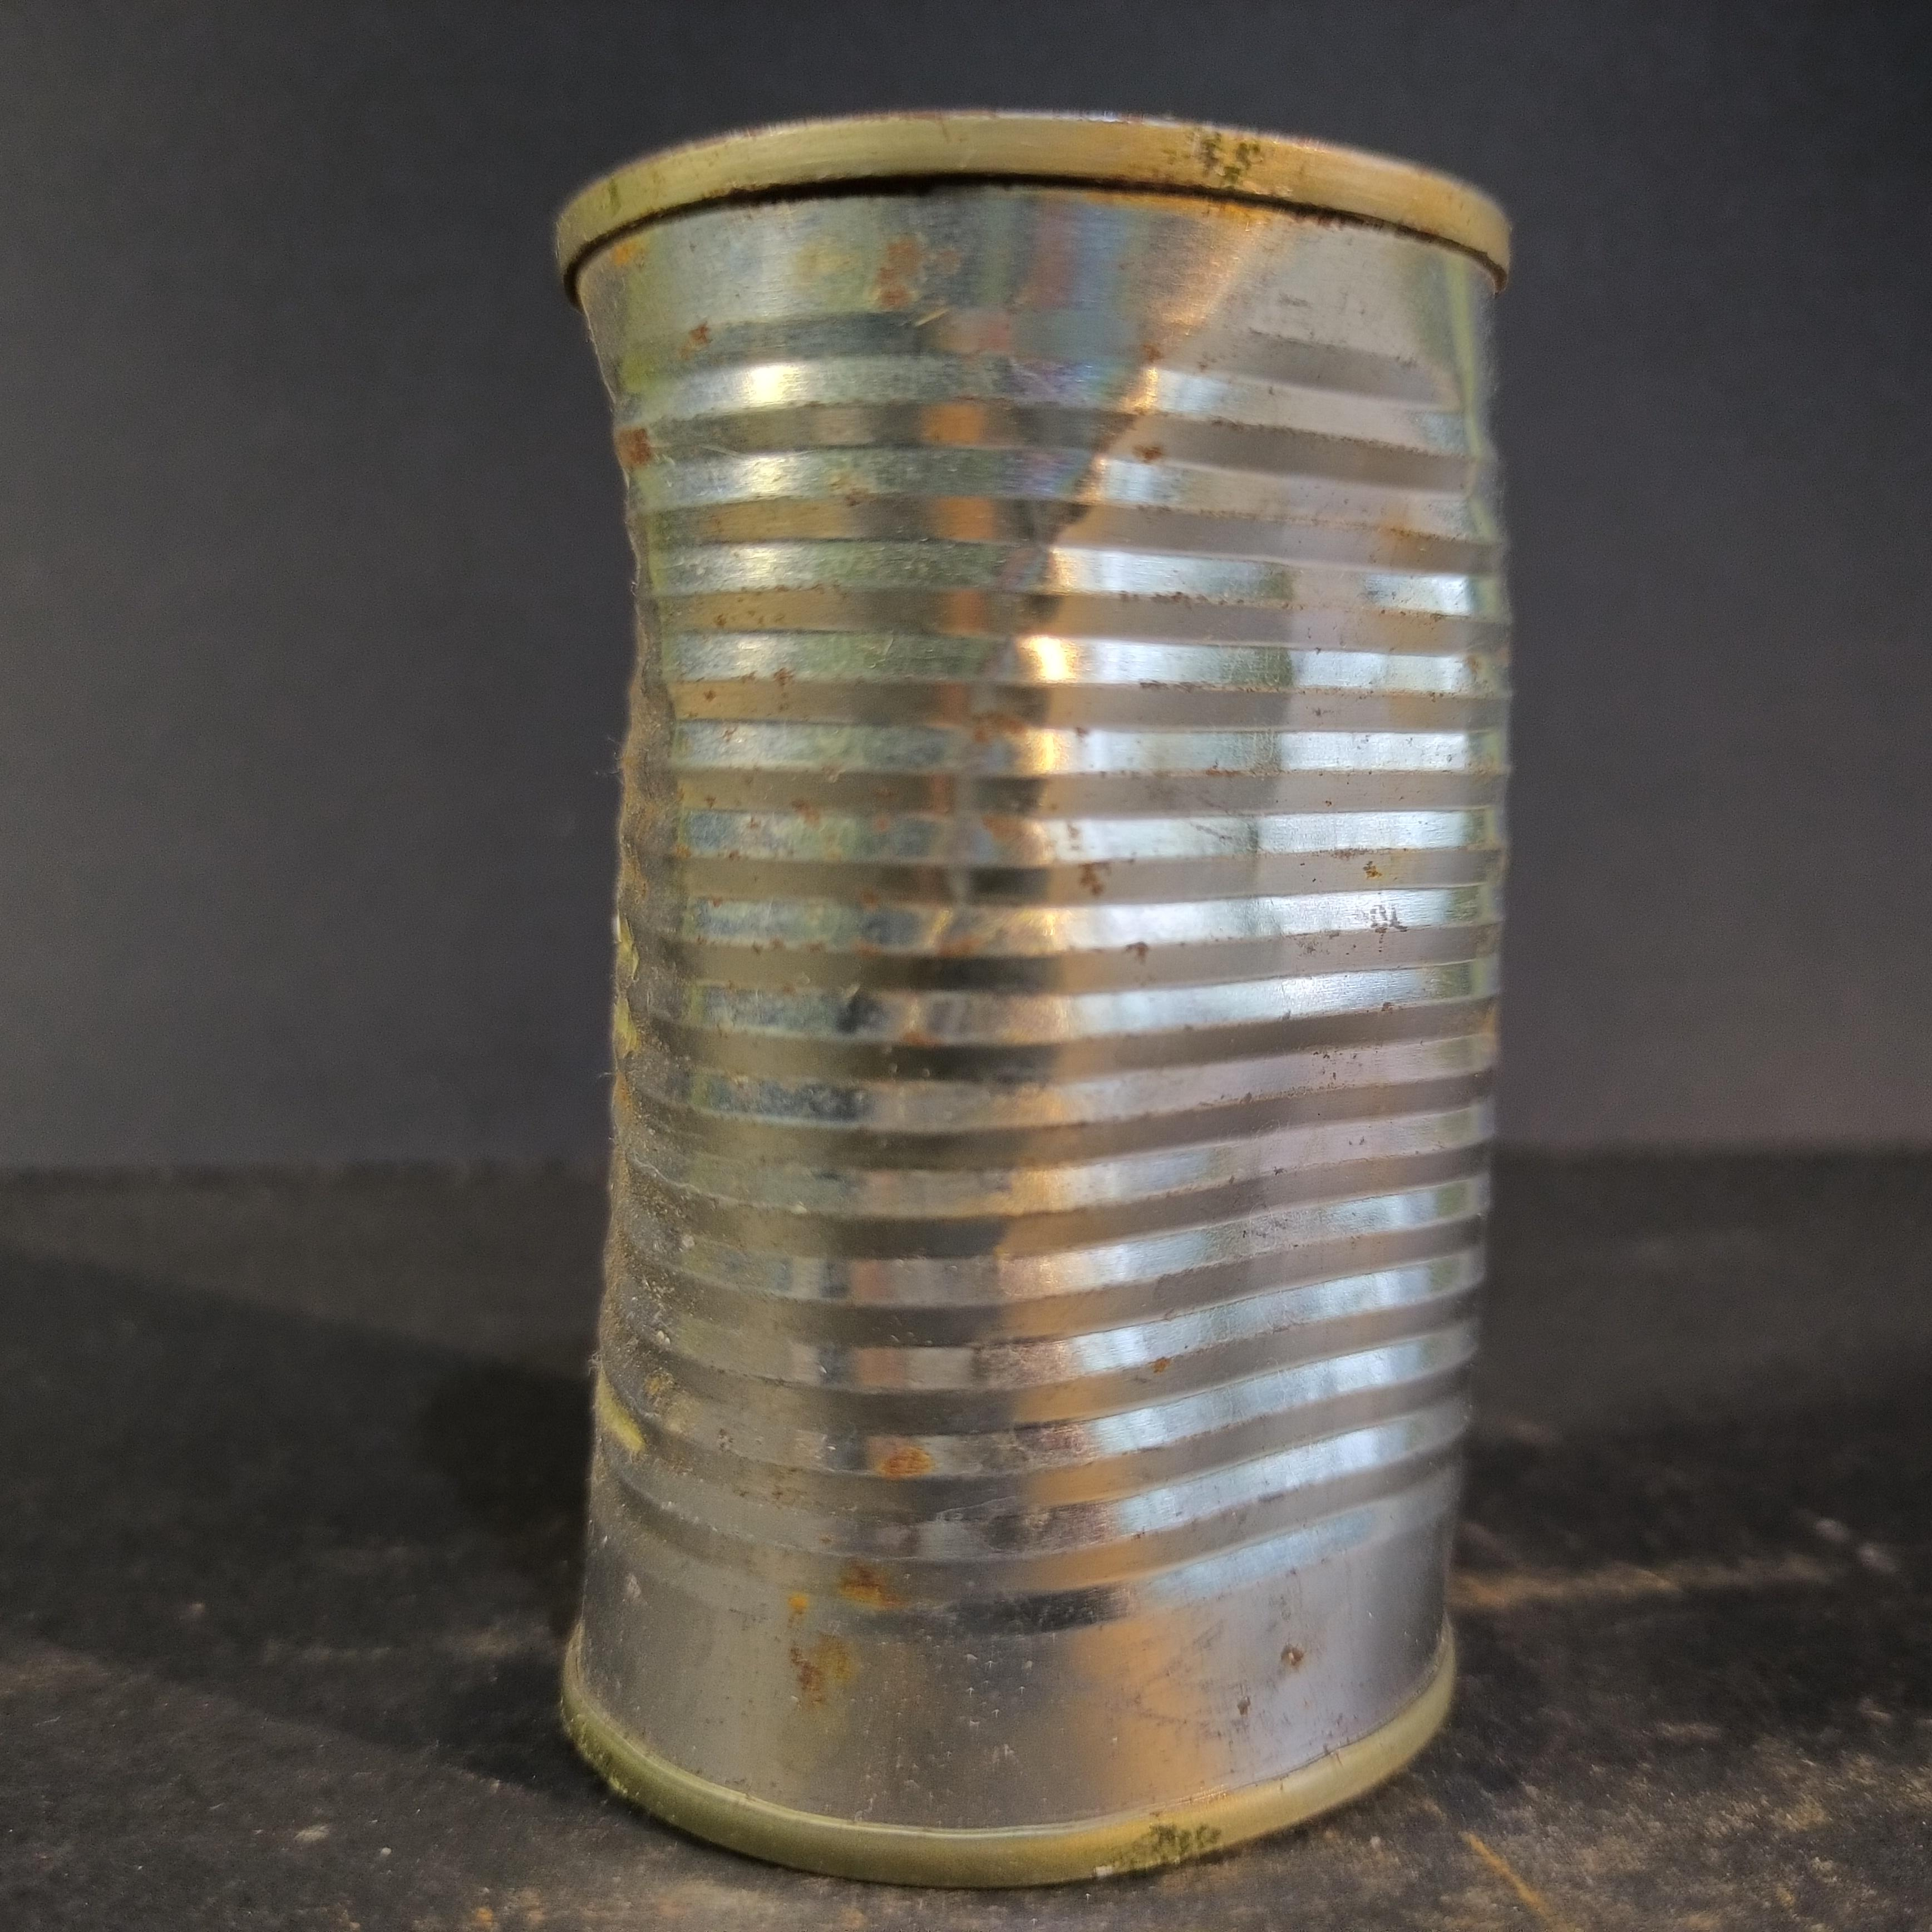Minor Defect: (552, 108, 1516, 1891)
